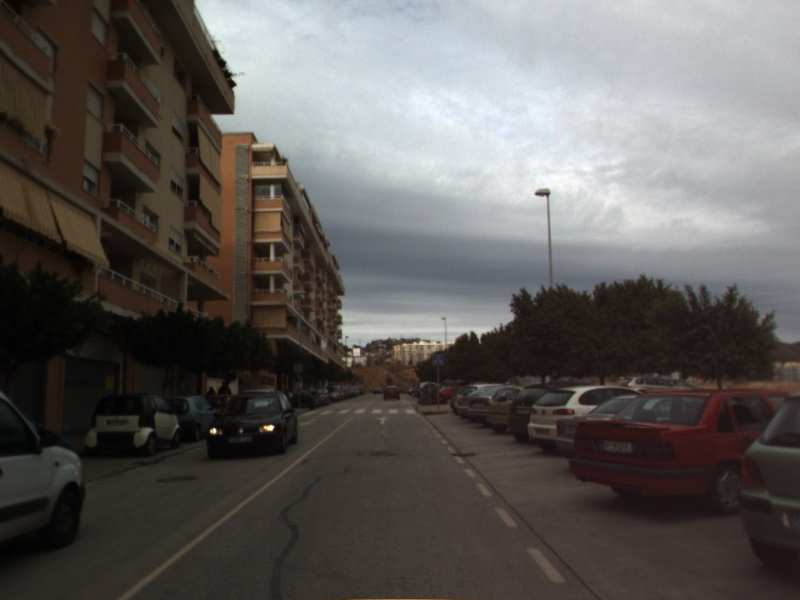STRAIGHT: (374, 414, 393, 426)
